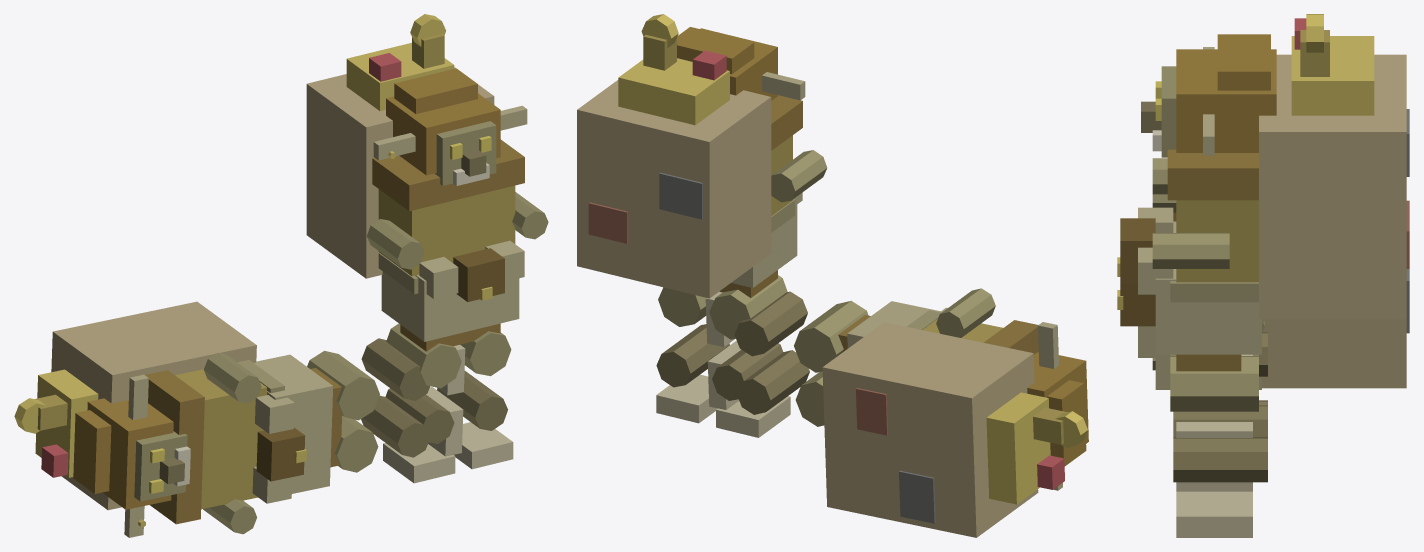
The model's file is goblin-loot.glb.
The picture shows the model from 3 angles, left to right: view 1: azimuth 30°, elevation 25°; view 2: azimuth 150°, elevation 25°; view 3: azimuth 270°, elevation 25°; orthographic projection. The views are drawn at different scales.
Parts seen in each view (by area): view 1: Standing, Death; view 2: Standing, Death; view 3: Standing, Death.
Boxes of the visible parts, left/top/right/bottom form: Standing: left=306, top=14, right=548, bottom=483; Death: left=14, top=301, right=465, bottom=537; Standing: left=577, top=14, right=827, bottom=437; Death: left=705, top=288, right=1088, bottom=537; Standing: left=1117, top=14, right=1409, bottom=537; Death: left=1117, top=194, right=1409, bottom=483.
Size of the model in its own units: 2.02 by 1.7 by 0.8905.
